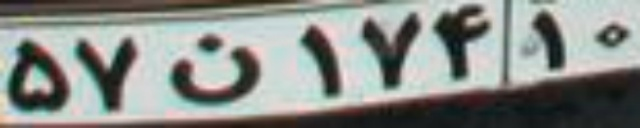0: (591, 22, 628, 48)
1: (299, 23, 348, 92), (531, 8, 564, 68)
4: (431, 4, 493, 80)
5: (7, 37, 67, 111)
7: (76, 35, 144, 111), (359, 11, 422, 88)
non: (165, 32, 265, 106)
